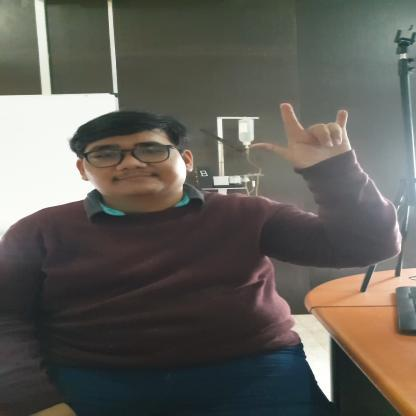ILoveYou: (246, 103, 356, 176)
